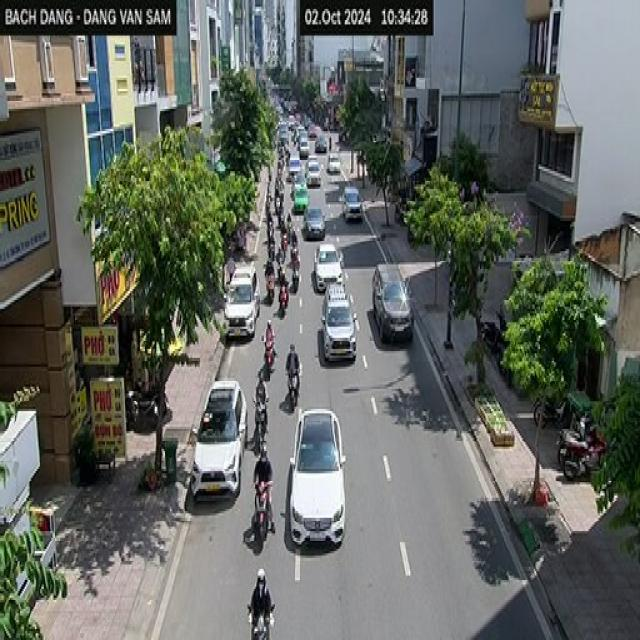car: (288, 406, 346, 546), (190, 378, 248, 500), (371, 262, 414, 342), (320, 282, 356, 360), (312, 242, 342, 291), (342, 184, 362, 220)
motorcycle: (252, 478, 272, 542)
person: (246, 566, 275, 638), (253, 444, 275, 534), (285, 342, 300, 404)
